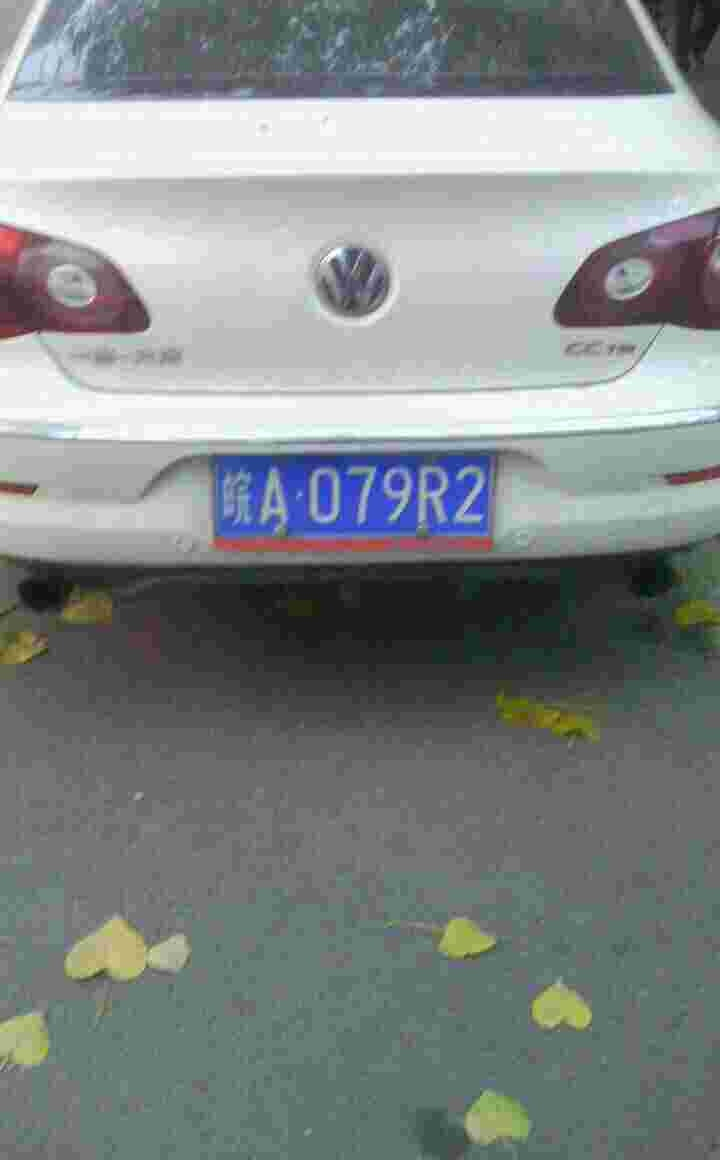plate: (216, 448, 500, 540)
